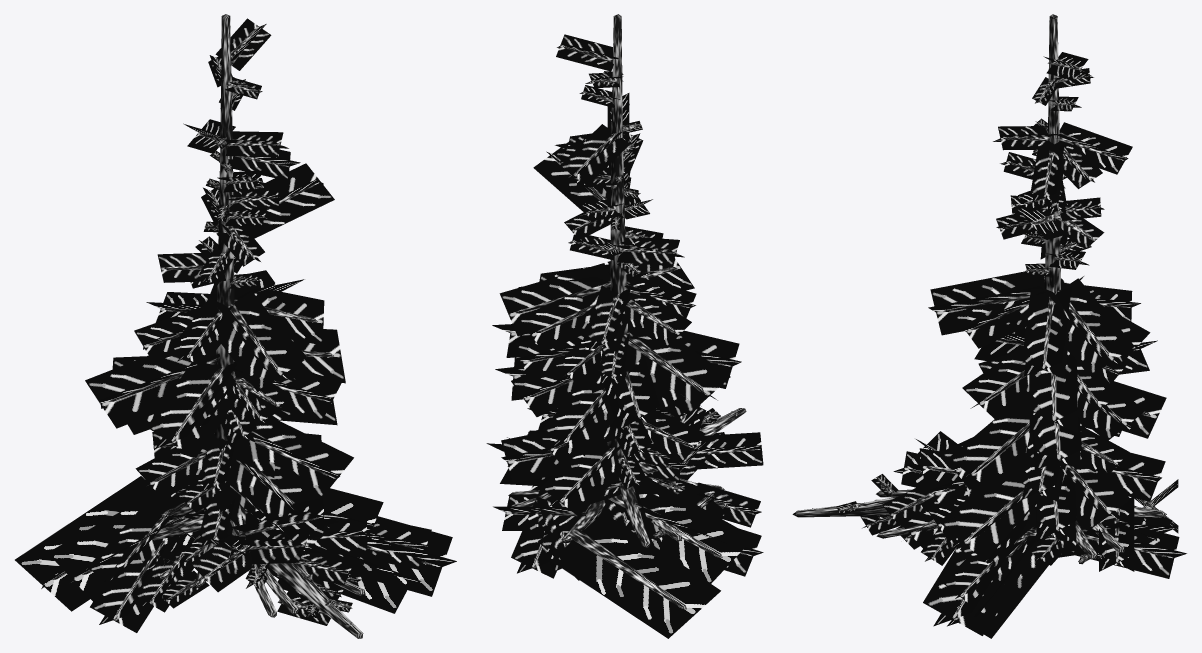
Rendered from AraTree10a.glb.
3 views of the same model, side by side, from view 1: azimuth 30°, elevation 25°; view 2: azimuth 150°, elevation 25°; view 3: azimuth 270°, elevation 25° (orthographic). The views are drawn at different scales.
Visible parts, largest first — view 1: AraTree10a_twigs; view 2: AraTree10a_twigs; view 3: AraTree10a_twigs.
Part boxes in pixels (<box>): AraTree10a_twigs: <box>15,14,456,638</box>; AraTree10a_twigs: <box>486,14,763,638</box>; AraTree10a_twigs: <box>792,14,1186,638</box>.
Size of the model in its own units: 3.52 by 6.02 by 3.8.
Materials: 2 (2 with a texture image).
